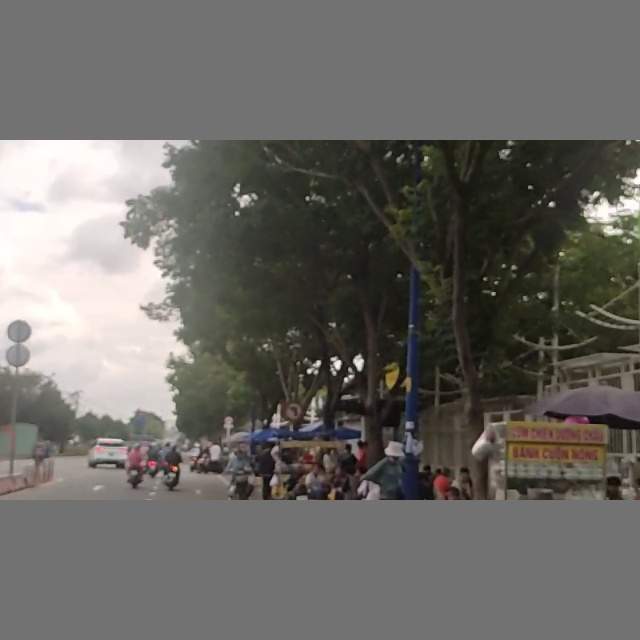P.123a: (279, 401, 303, 421)
